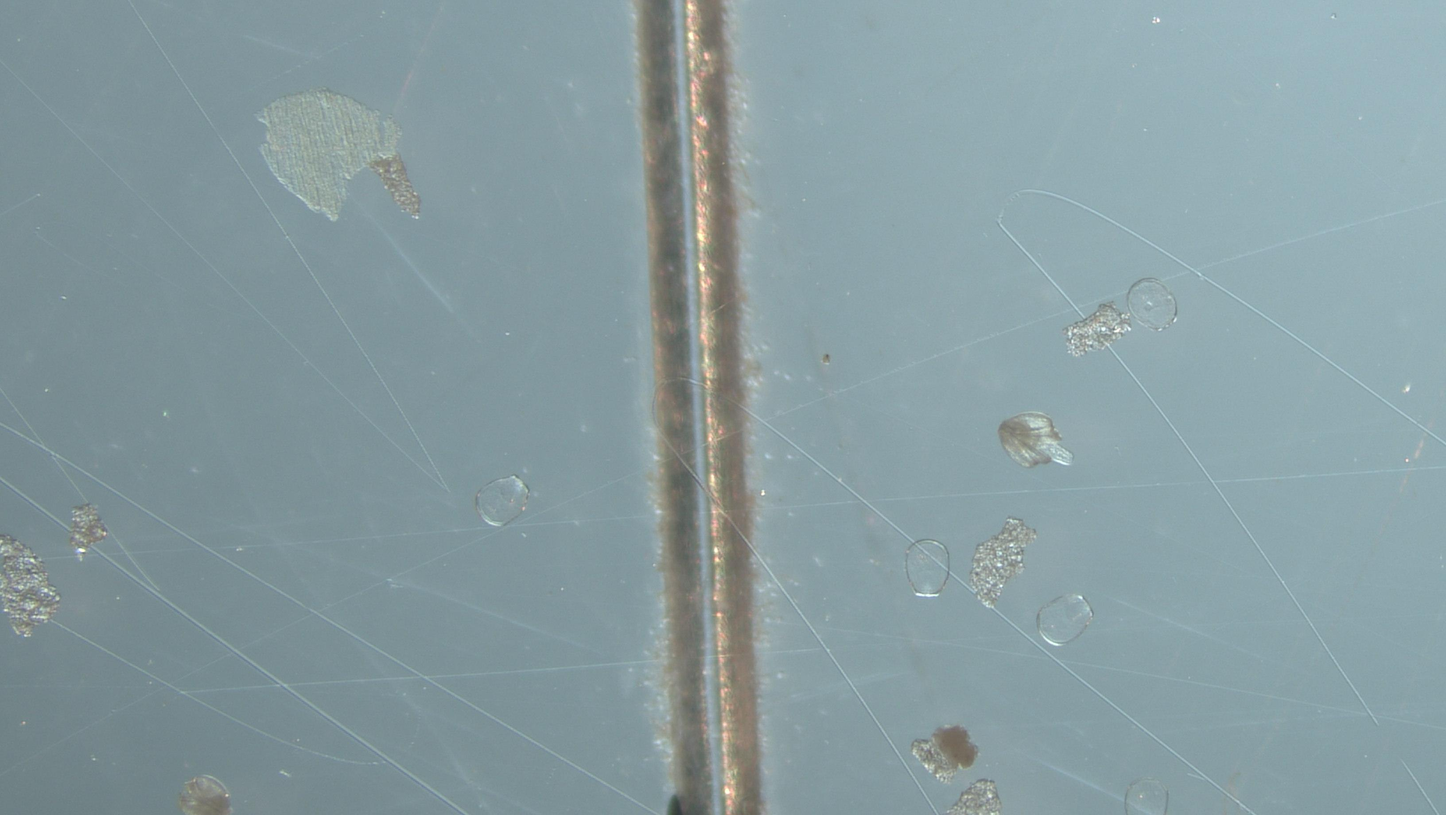dead: (1037, 594, 1093, 647), (475, 475, 530, 527), (1127, 278, 1178, 330), (906, 539, 949, 598), (1124, 779, 1169, 815)
live: (998, 412, 1073, 468)
